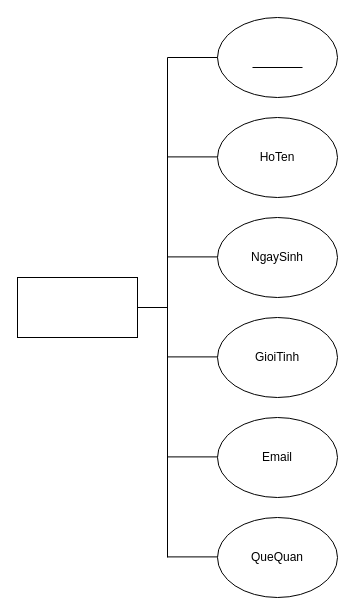
This 355x615 diagram has some shape labels left out. Here are the shapes that lost their labels. From the top down, the box of each, then its label:
(216, 16, 338, 98): MaSV
(16, 276, 138, 338): SinhVien
